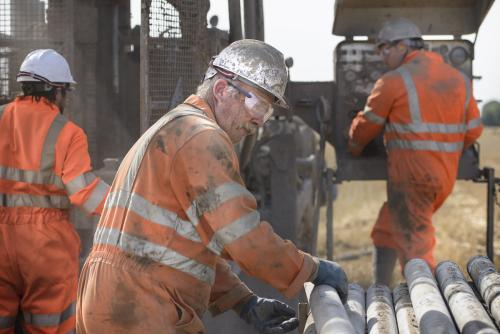helmet: (199, 31, 294, 135), (16, 46, 74, 115), (367, 17, 427, 67)
